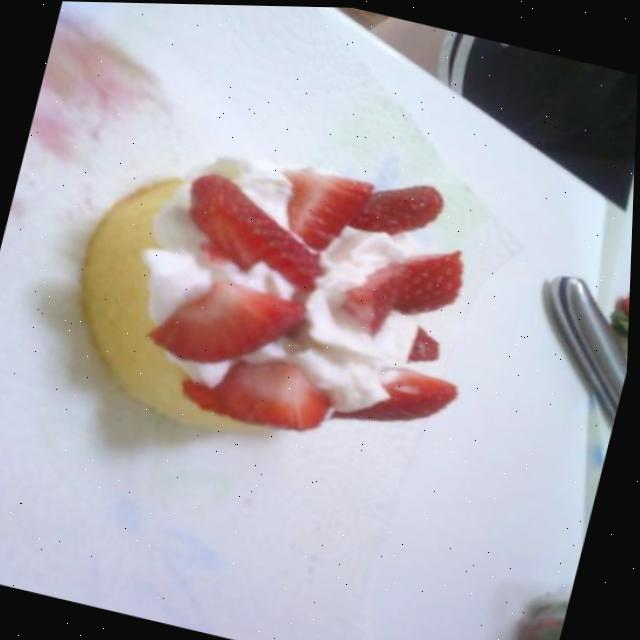蛋糕甜品: (0, 36, 586, 560)
